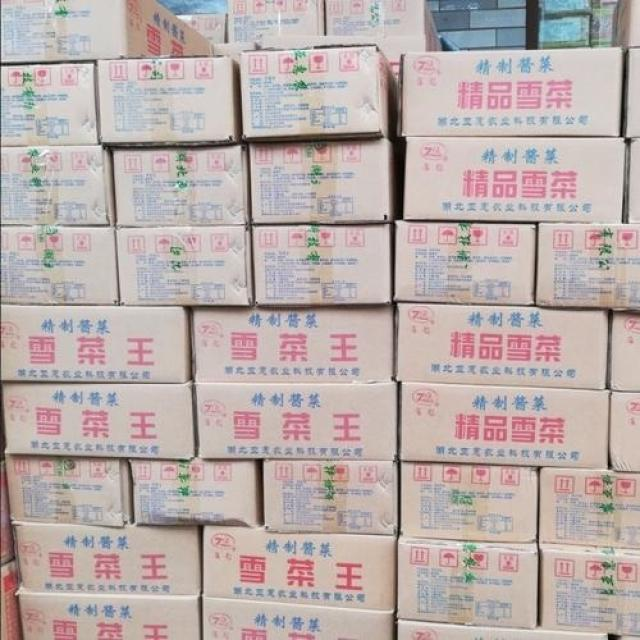box: (397, 46, 625, 137), (403, 138, 626, 224), (394, 303, 609, 390), (398, 381, 609, 468), (201, 527, 398, 613), (189, 306, 393, 383), (195, 384, 398, 461), (241, 45, 398, 142), (1, 383, 197, 460), (0, 305, 189, 383), (397, 536, 540, 630), (97, 54, 239, 146), (14, 526, 202, 594), (248, 138, 393, 224), (393, 220, 536, 306), (111, 142, 251, 227), (252, 224, 390, 307), (399, 462, 538, 543), (116, 225, 253, 306), (264, 461, 398, 535), (0, 225, 119, 306), (0, 146, 114, 227), (540, 543, 640, 635), (18, 590, 202, 640), (5, 454, 131, 526), (535, 224, 640, 310), (325, 0, 442, 76), (129, 461, 259, 526), (539, 467, 640, 550), (0, 61, 97, 146), (202, 598, 394, 640), (228, 0, 325, 46), (398, 621, 611, 640), (609, 310, 640, 392), (608, 392, 640, 471), (0, 561, 23, 640), (175, 13, 227, 41)
